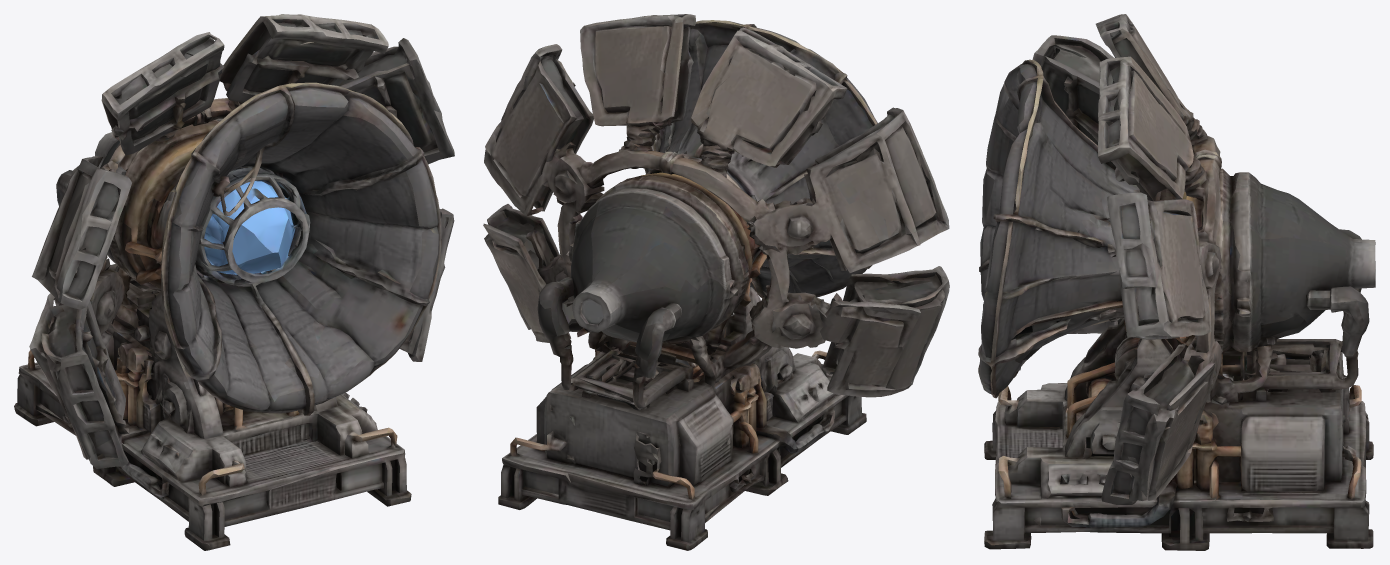
Rendered from B_SILENCER_neon.glb.
The picture shows the model from 3 angles, left to right: view 1: azimuth 30°, elevation 25°; view 2: azimuth 150°, elevation 25°; view 3: azimuth 270°, elevation 25°; orthographic projection. The views are drawn at different scales.
Visible parts, largest first — view 1: world; view 2: world; view 3: world.
Boxes of the visible parts, x1,y1,x2,y2 form: world: (14,14,454,550); world: (483,14,949,550); world: (978,14,1375,550).
Bounding box in the file's own units: 1 × 0.9861 × 0.7808.
1 material, 1 textured.
